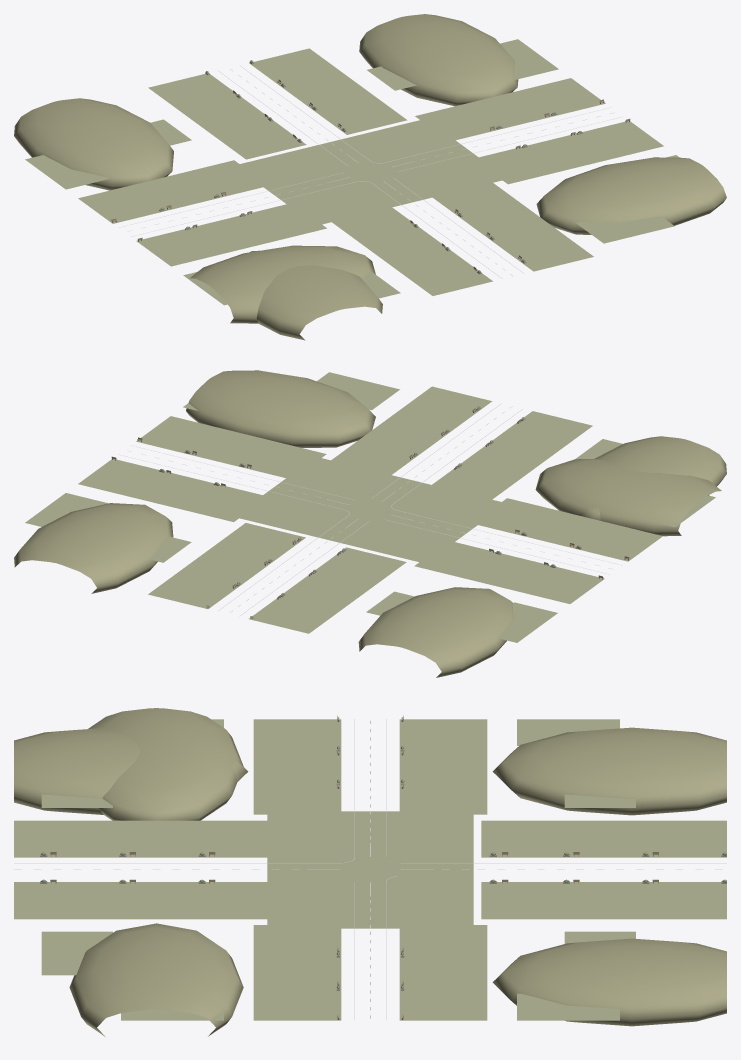
The picture shows the model from 3 angles, top to bottom: view 1: azimuth 30°, elevation 25°; view 2: azimuth 150°, elevation 25°; view 3: azimuth 270°, elevation 25°; orthographic projection. The views are drawn at different scales.
Parts seen in each view (by area): view 1: static; view 2: static; view 3: static.
Boxes of the visible parts, bbox=[...] form: static: bbox=[14, 14, 726, 340]; static: bbox=[14, 370, 726, 677]; static: bbox=[14, 708, 726, 1036].
Size of what is drawn, in the model's own units: 180 by 14.08 by 180.
